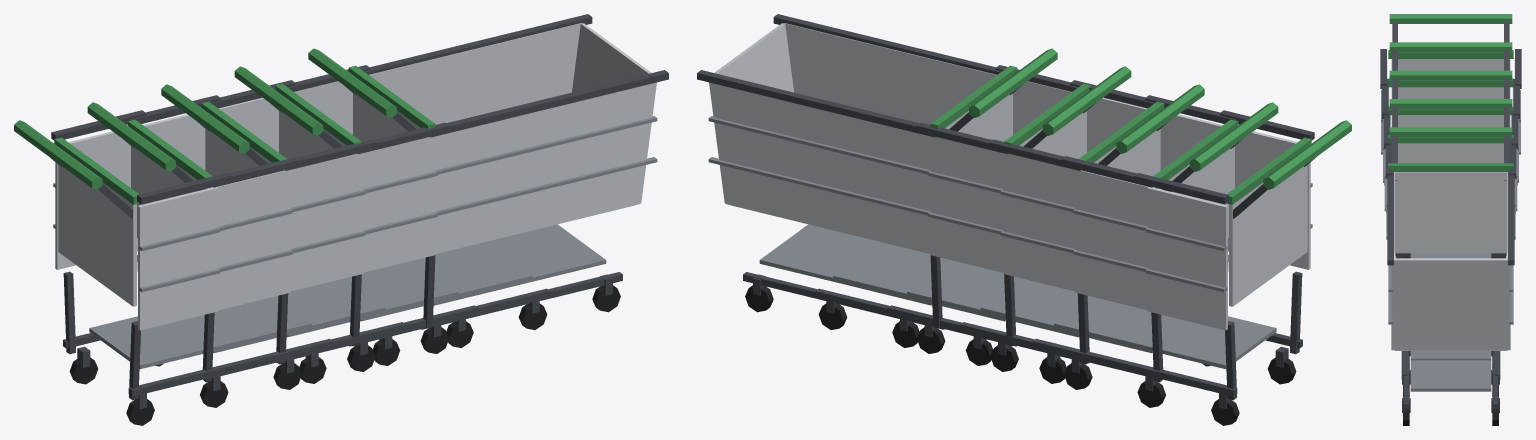
The model's file is Cart_Nested_Row_Market.fbx.
The picture shows the model from 3 angles, left to right: view 1: azimuth 30°, elevation 25°; view 2: azimuth 150°, elevation 25°; view 3: azimuth 270°, elevation 25°; orthographic projection. The views are drawn at different scales.
Visible parts, largest first — view 1: Cart_Nested_Row_Market; view 2: Cart_Nested_Row_Market; view 3: Cart_Nested_Row_Market.
Part boxes in pixels (bbox=[...]): Cart_Nested_Row_Market: bbox=[14, 14, 668, 425]; Cart_Nested_Row_Market: bbox=[697, 14, 1351, 425]; Cart_Nested_Row_Market: bbox=[1380, 14, 1521, 425].
Size of the model in its own units: 2.35 by 1.05 by 0.634.
1 material, 1 textured.
